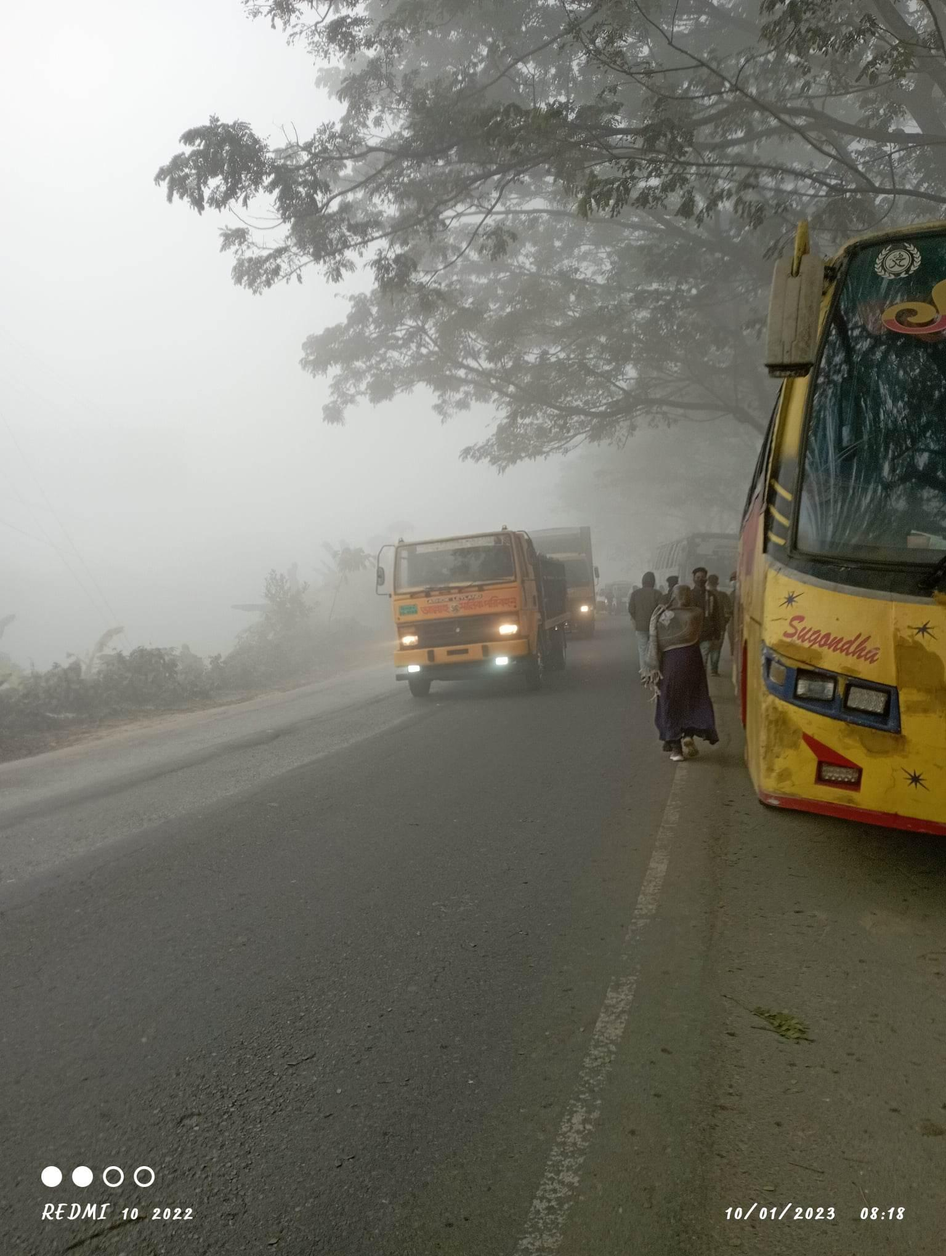Bus: (724, 190, 946, 851), (645, 529, 735, 651)
Truck: (348, 506, 571, 715), (535, 514, 610, 643)
